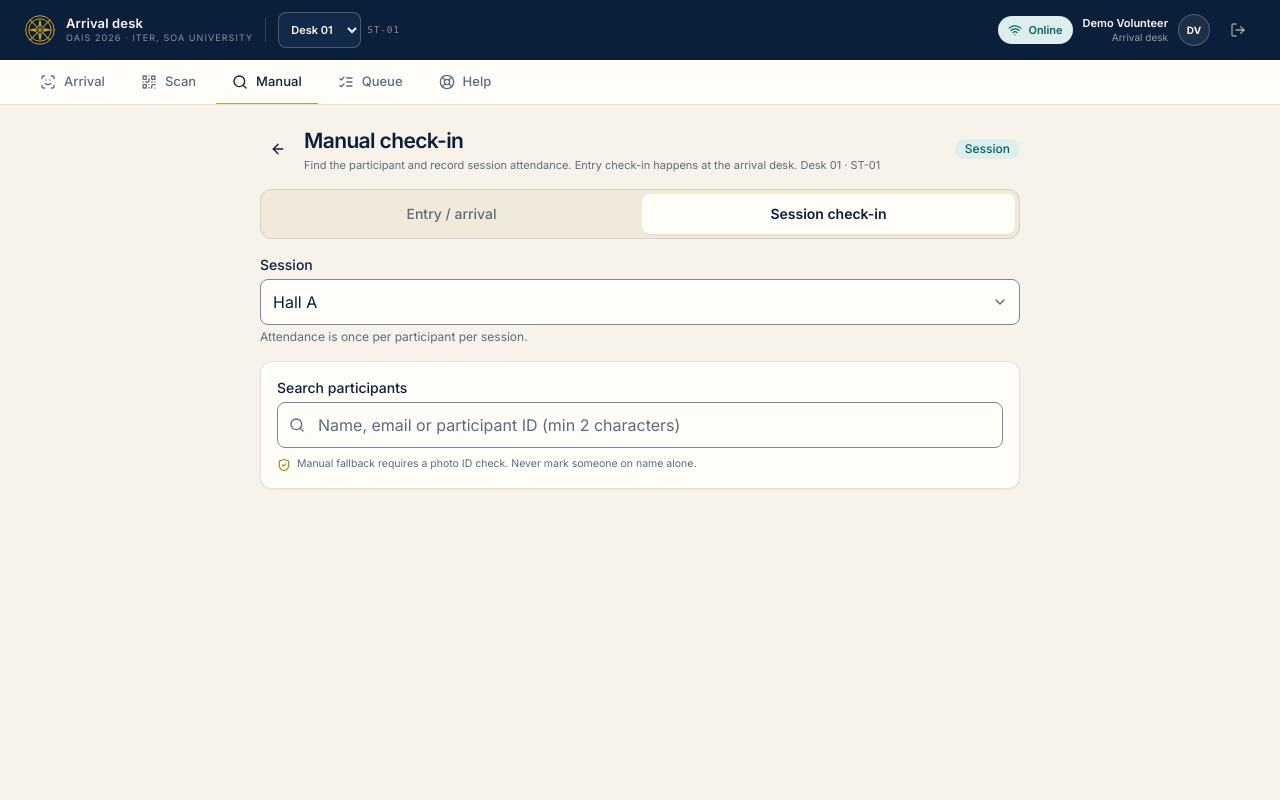
it: Manual lookup (§7.5/§7.6) › records session attendance with the manual method
The image size is (1280, 800).
Type "As" into the field labelled "Search participants" at (640, 425), box [277,402,1003,448]
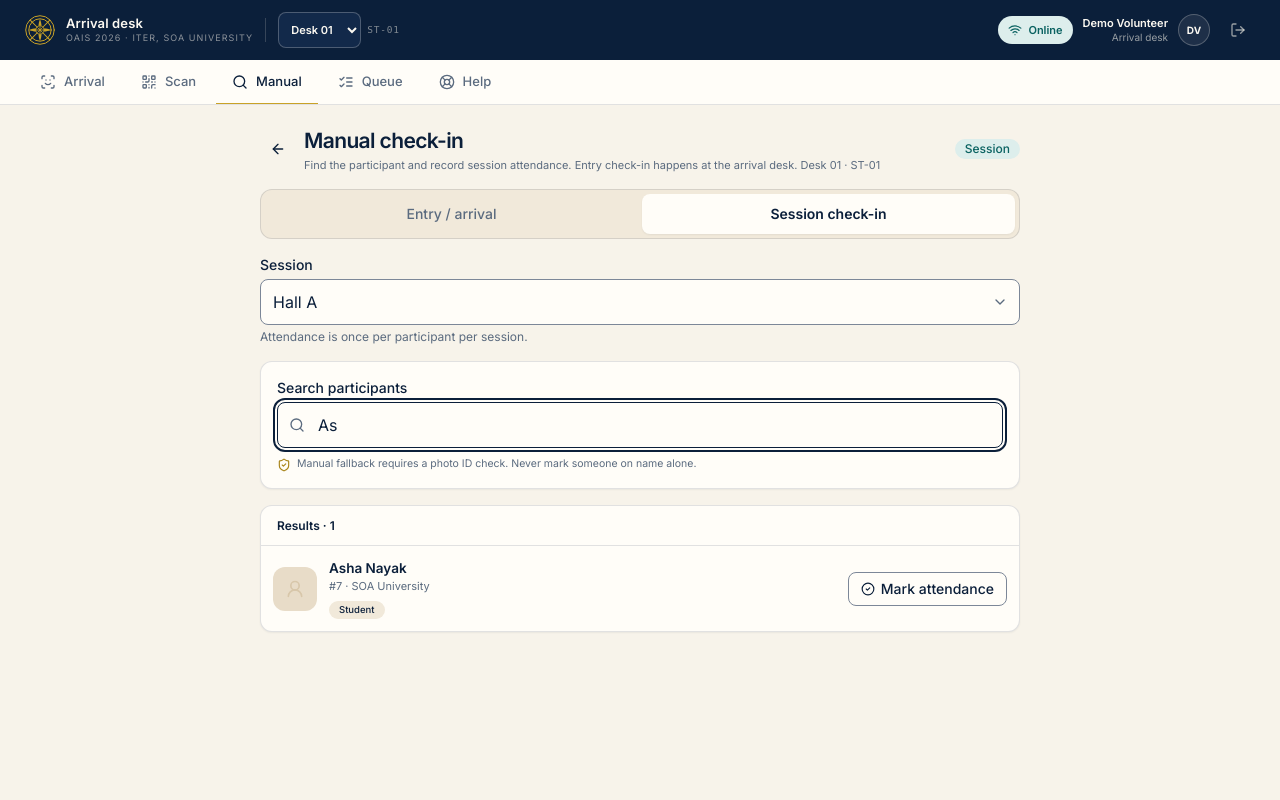
Expected: the text "Asha Nayak" is shown, [329,560,407,576]
Click the button "Mark attendance" at (927, 588), box [848,572,1007,606]
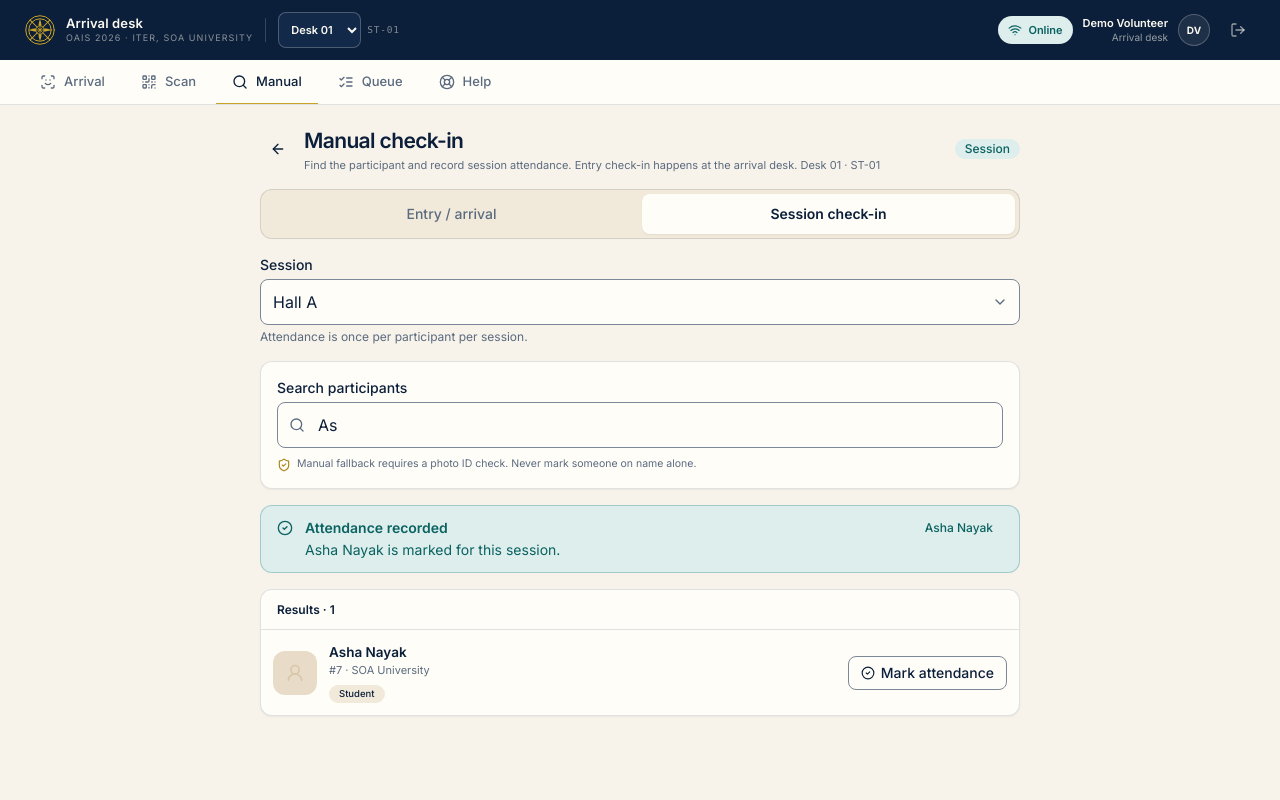
Expected: the text "Attendance recorded" is shown, [305,519,448,536]
